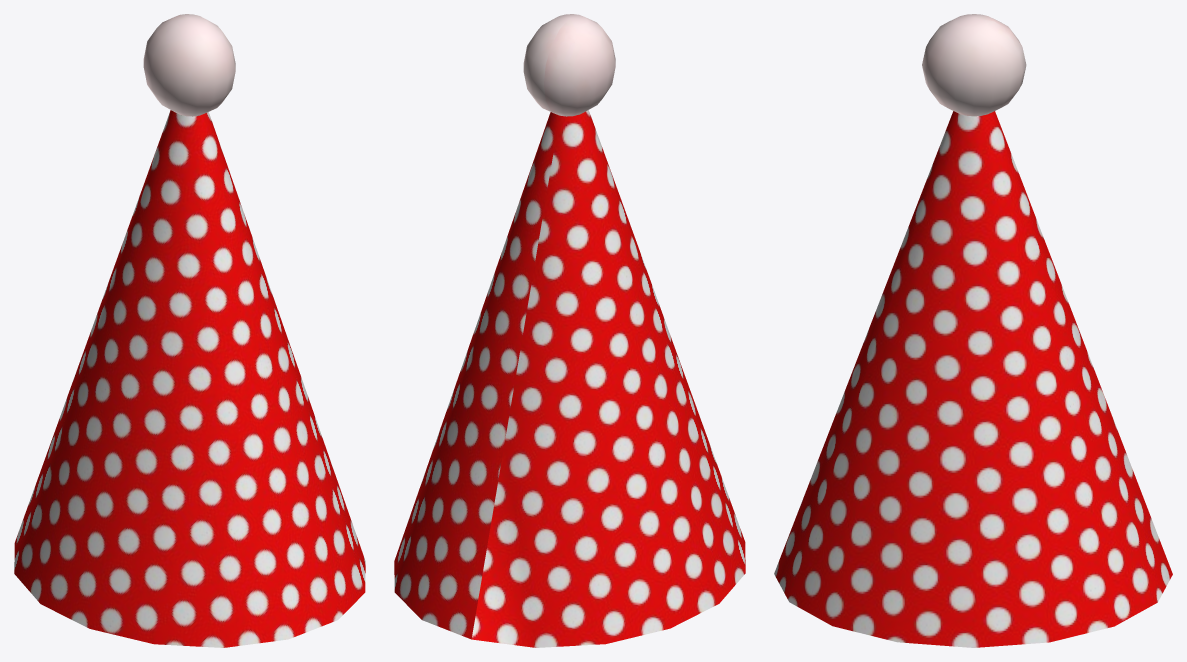
Rendered from hat_party.glb.
The picture shows the model from 3 angles, left to right: view 1: azimuth 30°, elevation 25°; view 2: azimuth 150°, elevation 25°; view 3: azimuth 270°, elevation 25°; orthographic projection.
Visible parts, largest first — view 1: party_cone_body_0; view 2: party_cone_body_0; view 3: party_cone_body_0.
Part boxes in pixels (box(x1,y1,x2,y2)): party_cone_body_0: box(14, 14, 365, 647); party_cone_body_0: box(394, 14, 745, 647); party_cone_body_0: box(774, 14, 1172, 647).
Bounding box in the file's own units: 13.49 × 23.7 × 15.39.
Materials: 2 (2 with a texture image).
